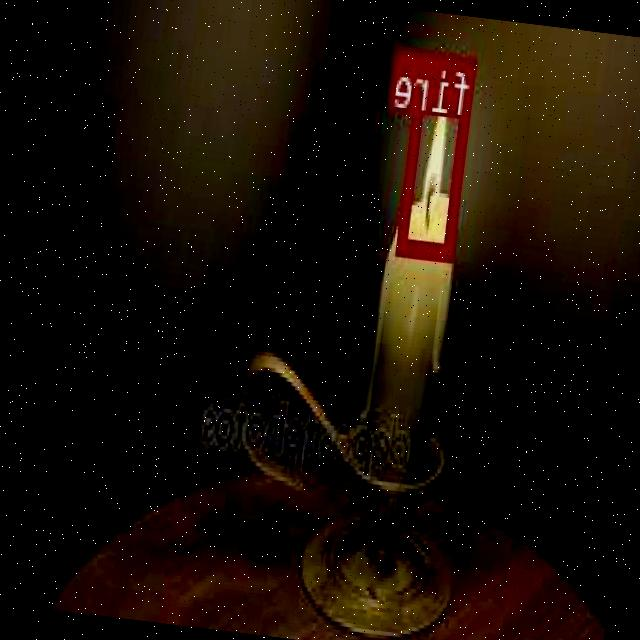fire: (398, 52, 479, 257)
